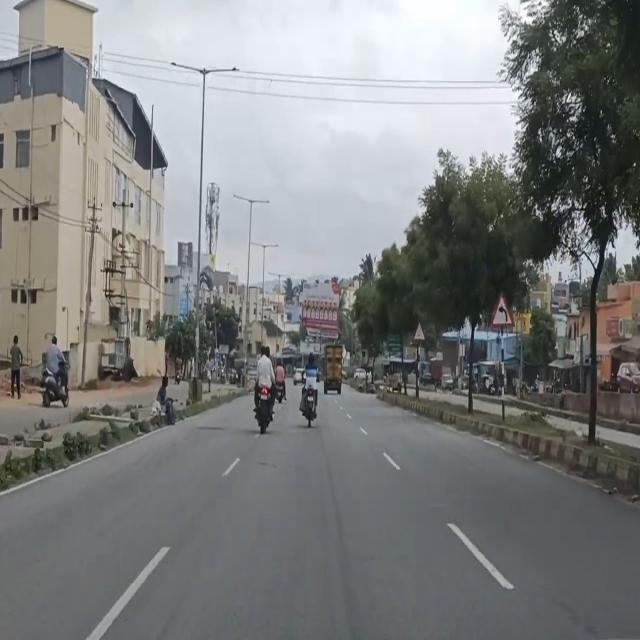bien_cam: (490, 294, 515, 330)
